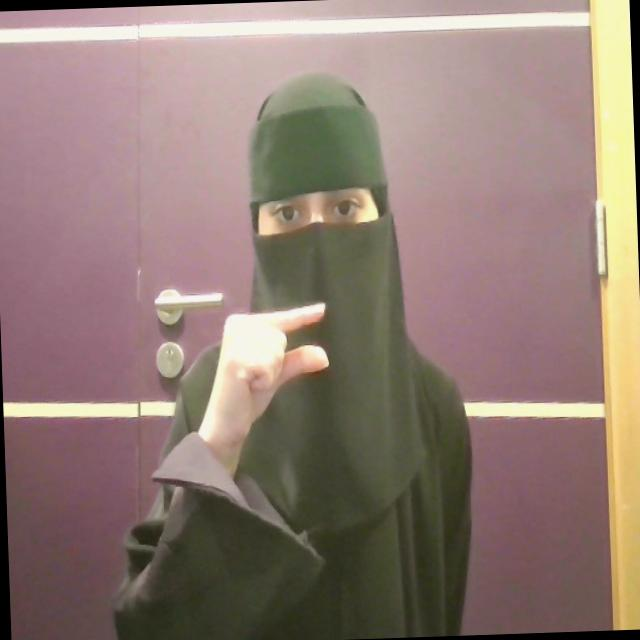fasting: (197, 298, 335, 454)
